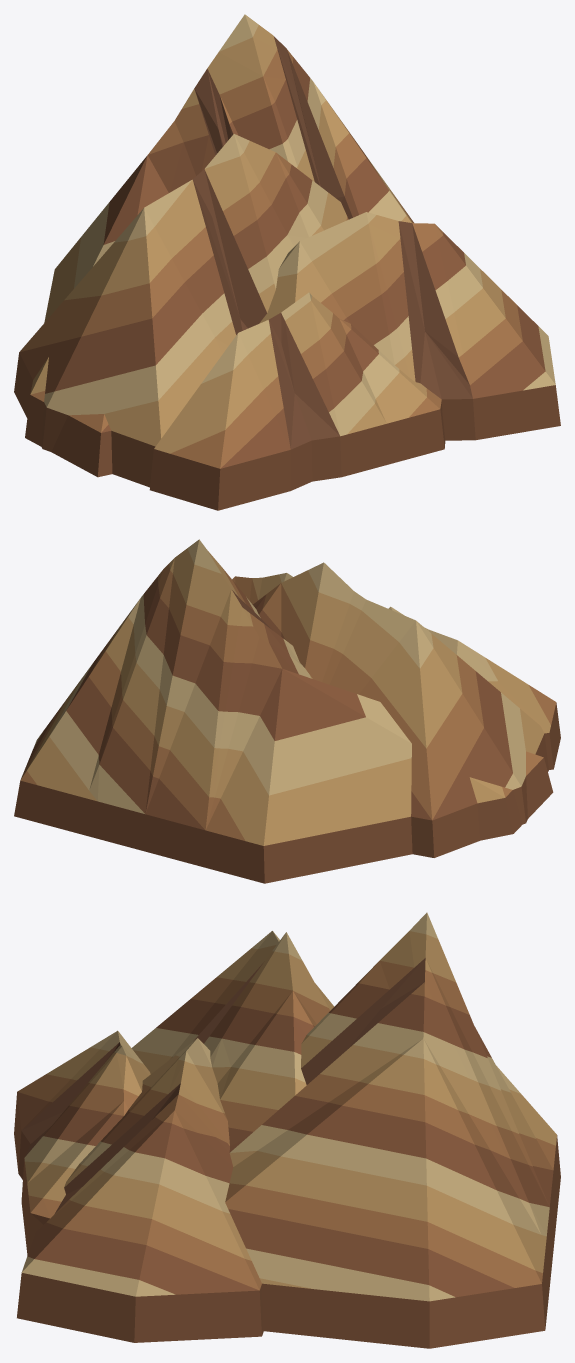
File: strata_cluster.glb
3 views of the same model, one above another, from view 1: azimuth 30°, elevation 25°; view 2: azimuth 150°, elevation 25°; view 3: azimuth 270°, elevation 25° (orthographic). The views are drawn at different scales.
Visible parts, largest first — view 1: strata_cluster; view 2: strata_cluster; view 3: strata_cluster.
Part boxes in pixels (bbox=[...]): strata_cluster: bbox=[14, 14, 560, 510]; strata_cluster: bbox=[14, 539, 560, 883]; strata_cluster: bbox=[14, 912, 560, 1348].
Bounding box in the file's own units: 1.85 × 1.15 × 1.69.
